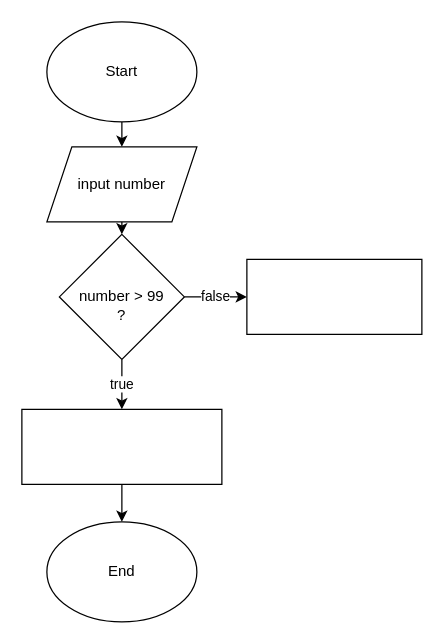
Some shapes in this 444 by 644 pixel diagram are drawn without their labels. The shapes that lost their labels are listed below. From the top down, each one's centre as x and y in pixels, then its label:
pixel 334 296: number = number / 10; ConsoleWriteLine ("Error!")
pixel 121 446: Console.WriteLine((number % 10));
